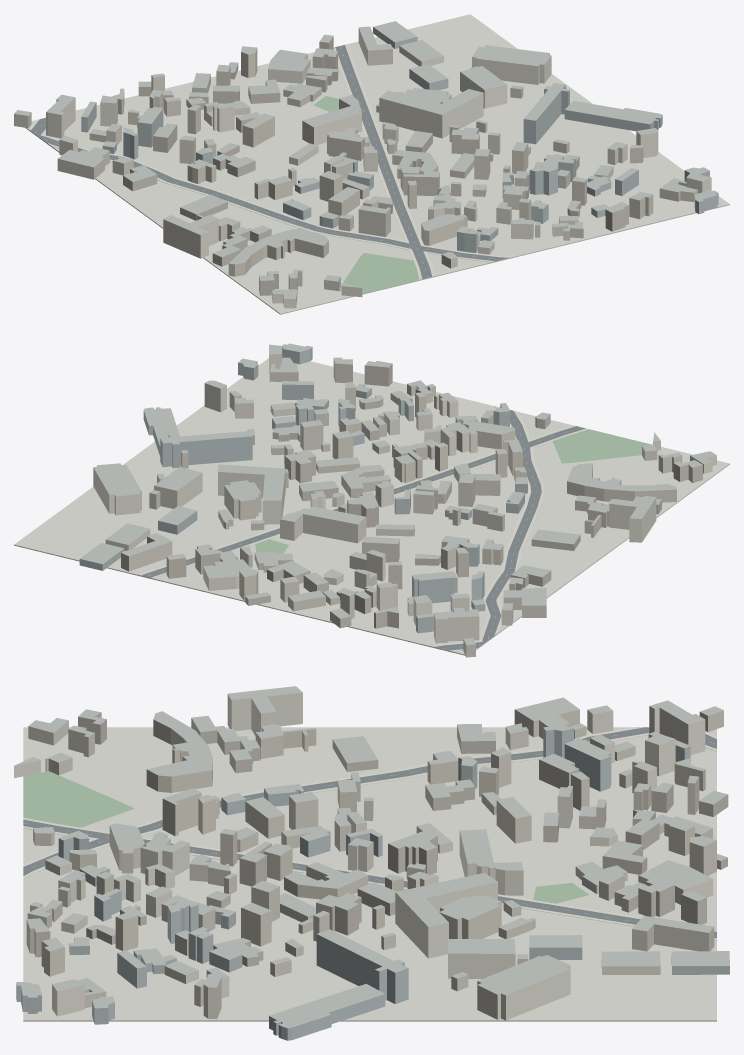
The picture shows the model from 3 angles, top to bottom: view 1: azimuth 30°, elevation 25°; view 2: azimuth 150°, elevation 25°; view 3: azimuth 270°, elevation 25°; orthographic projection. The views are drawn at different scales.
Parts seen in each view (by area): view 1: city; view 2: city; view 3: city.
Part boxes in pixels (x1,y1,x2,y2): city: (14,14,729,314); city: (14,343,729,657); city: (14,686,729,1040).
Size of the model in its own units: 558 by 26 by 516.
